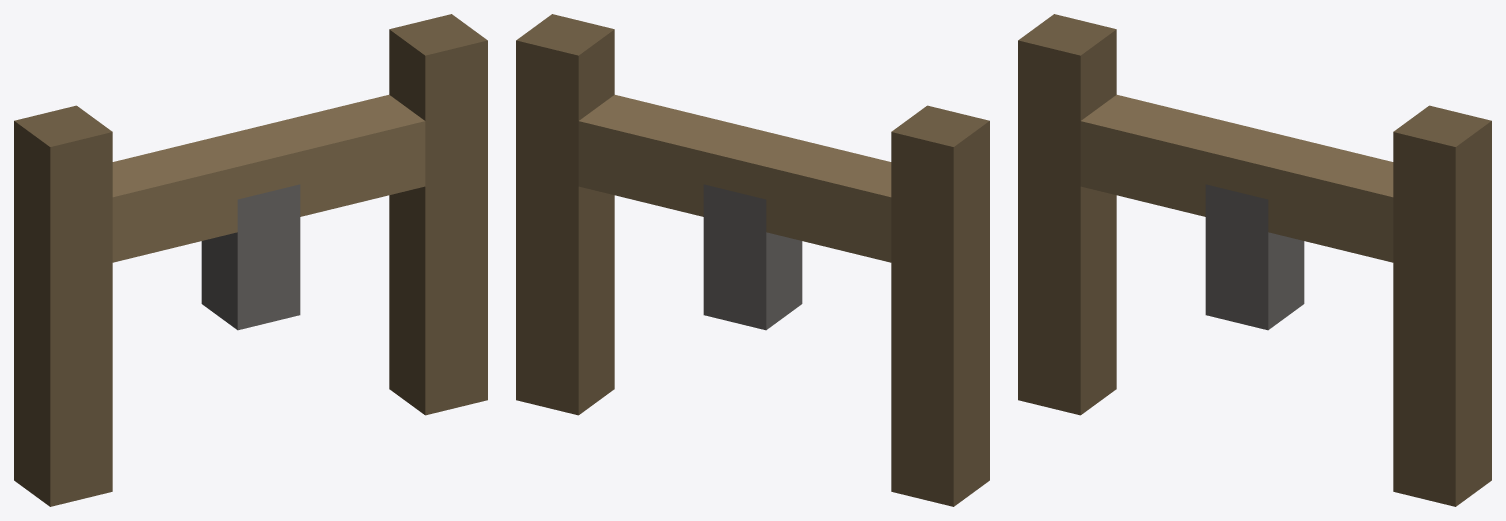
Rendered from amarradero_02.glb.
3 renders of one model, left to right at view 1: azimuth 30°, elevation 25°; view 2: azimuth 150°, elevation 25°; view 3: azimuth 330°, elevation 25°, orthographic.
Visible parts, largest first — view 1: amarradero_02; view 2: amarradero_02; view 3: amarradero_02.
Part boxes in pixels (bbox=[...]): amarradero_02: bbox=[14, 14, 487, 506]; amarradero_02: bbox=[516, 14, 989, 506]; amarradero_02: bbox=[1018, 14, 1491, 506].
Size of the model in its own units: 1.4 by 1.1 by 0.2.
